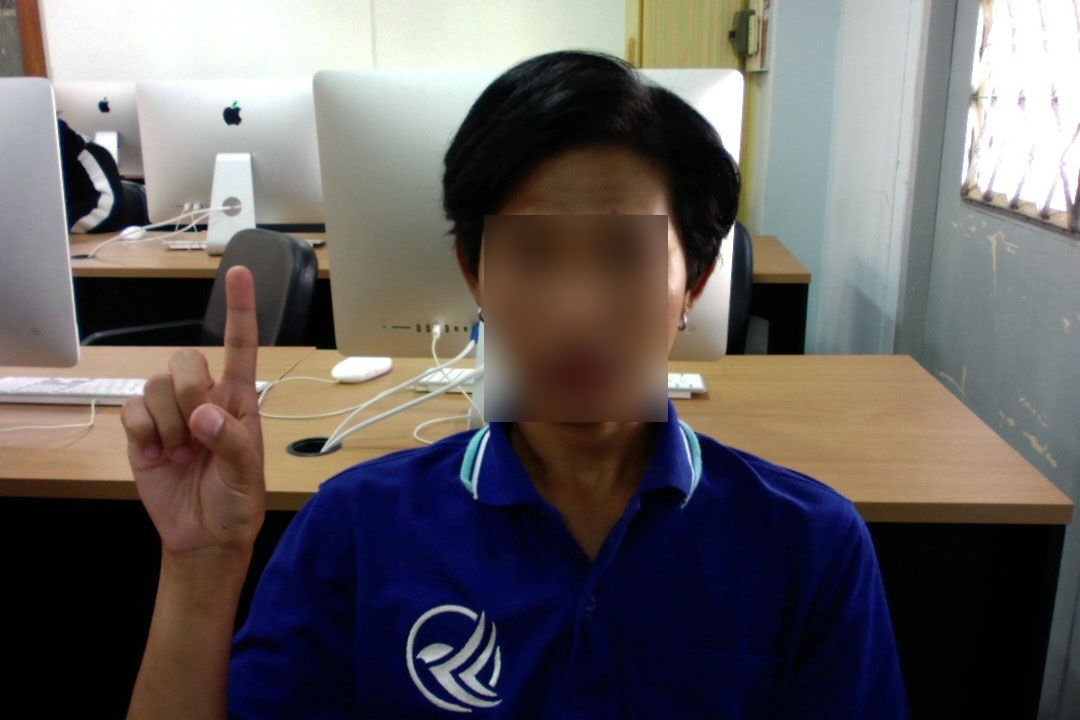dor: (109, 259, 275, 588)
